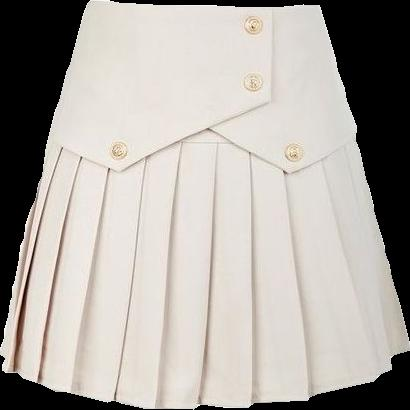Hemline: (48, 12, 277, 173), (0, 346, 409, 409), (207, 128, 358, 177)
Waistline: (86, 1, 323, 11)
